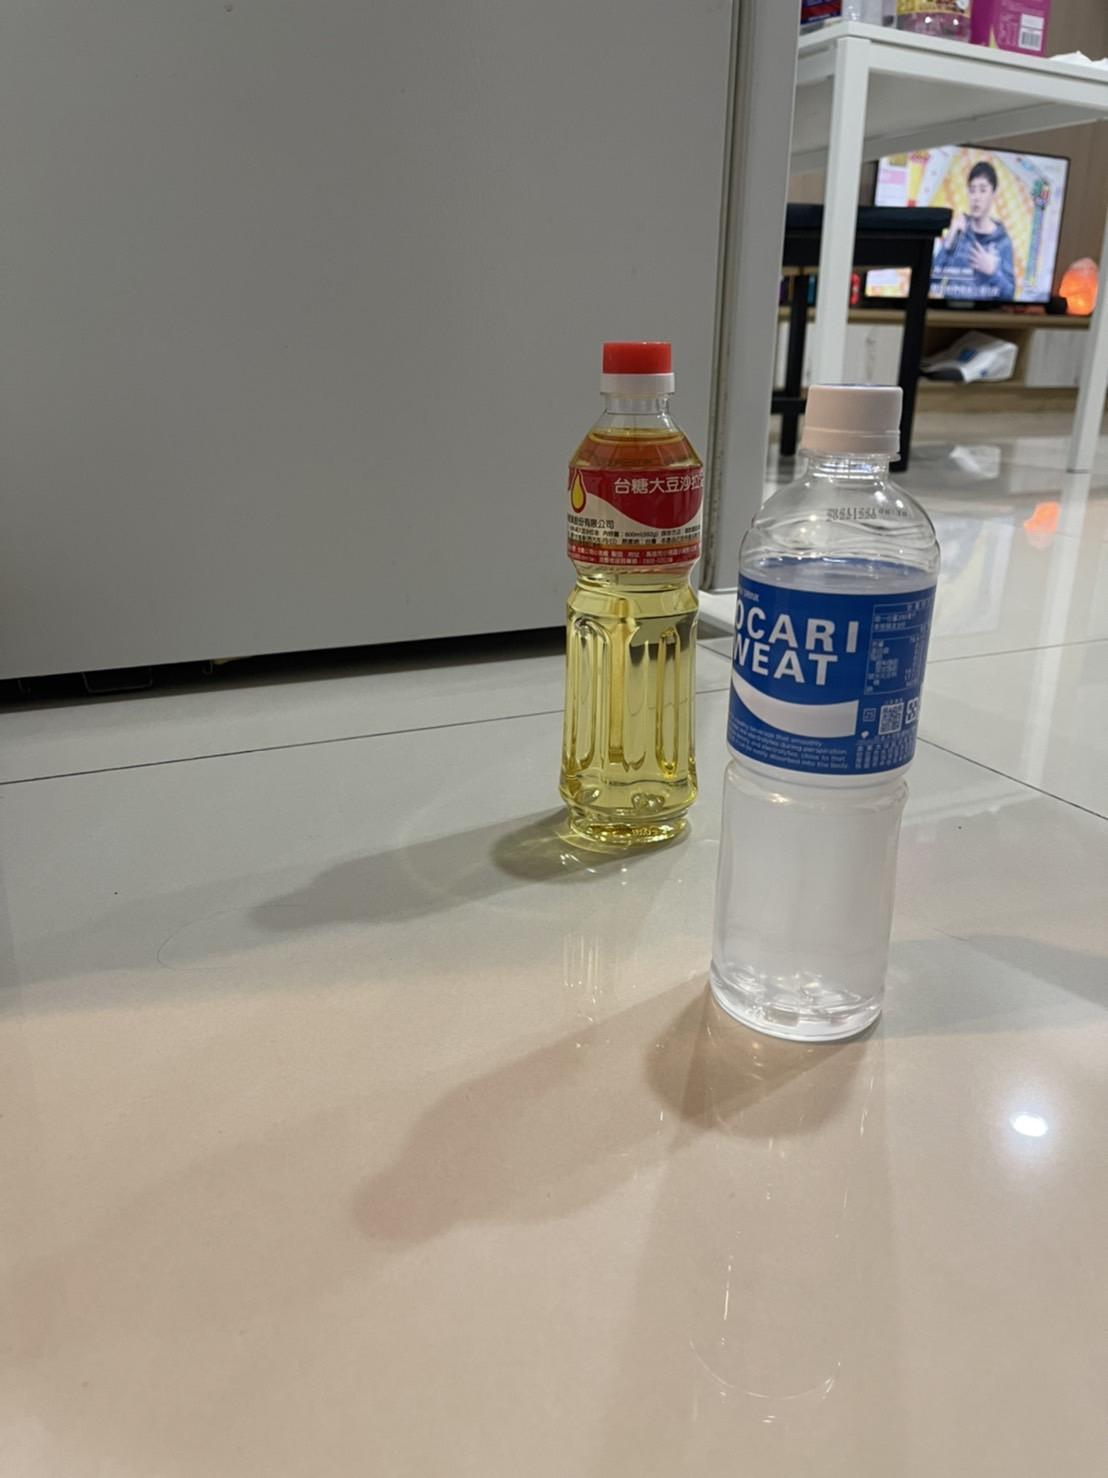bottle: (680, 364, 951, 1060), (0, 325, 166, 872)
